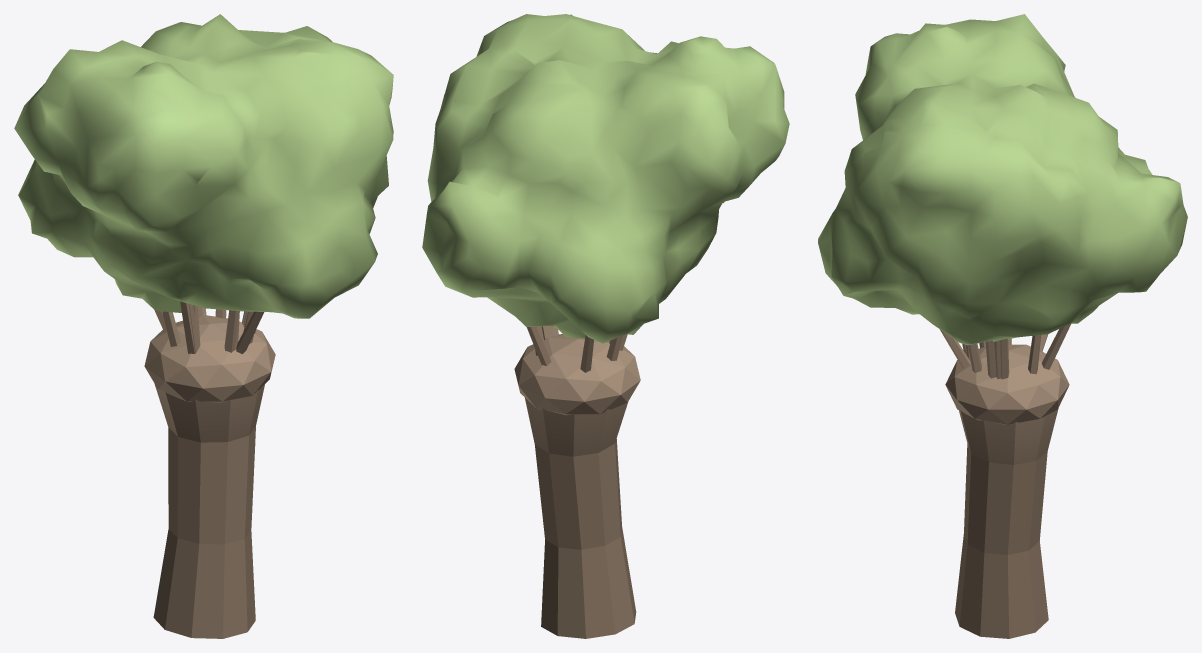
File: tree_pollard.glb
3 views of the same model, side by side, from view 1: azimuth 30°, elevation 25°; view 2: azimuth 150°, elevation 25°; view 3: azimuth 270°, elevation 25° (orthographic). The views are drawn at different scales.
Visible parts, largest first — view 1: tree_pollard; view 2: tree_pollard; view 3: tree_pollard.
Boxes of the visible parts, left/top/right/bottom form: tree_pollard: left=14, top=14, right=393, bottom=638; tree_pollard: left=422, top=14, right=789, bottom=638; tree_pollard: left=818, top=14, right=1187, bottom=638.
Bounding box in the file's own units: 3.04 × 5.44 × 3.27.
